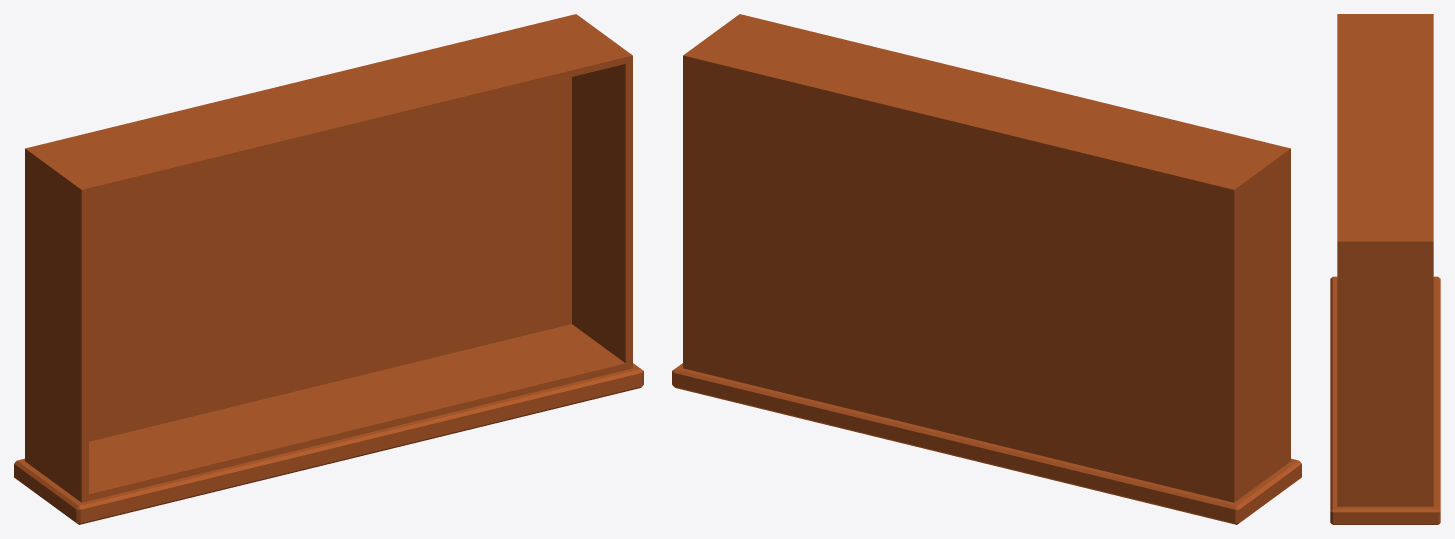
File: DrawermeshDresserDrawer_319_10_1.obj
The picture shows the model from 3 angles, left to right: view 1: azimuth 30°, elevation 25°; view 2: azimuth 150°, elevation 25°; view 3: azimuth 270°, elevation 25°; orthographic projection. The views are drawn at different scales.
Visible parts, largest first — view 1: DresserDrawer_319_10; view 2: DresserDrawer_319_10; view 3: DresserDrawer_319_10.
Part boxes in pixels (x1,y1,x2,y2): DresserDrawer_319_10: (14,14,643,524); DresserDrawer_319_10: (672,14,1301,524); DresserDrawer_319_10: (1330,14,1440,524).
Bounding box in the file's own units: 0.7394 × 0.4276 × 0.1471.
